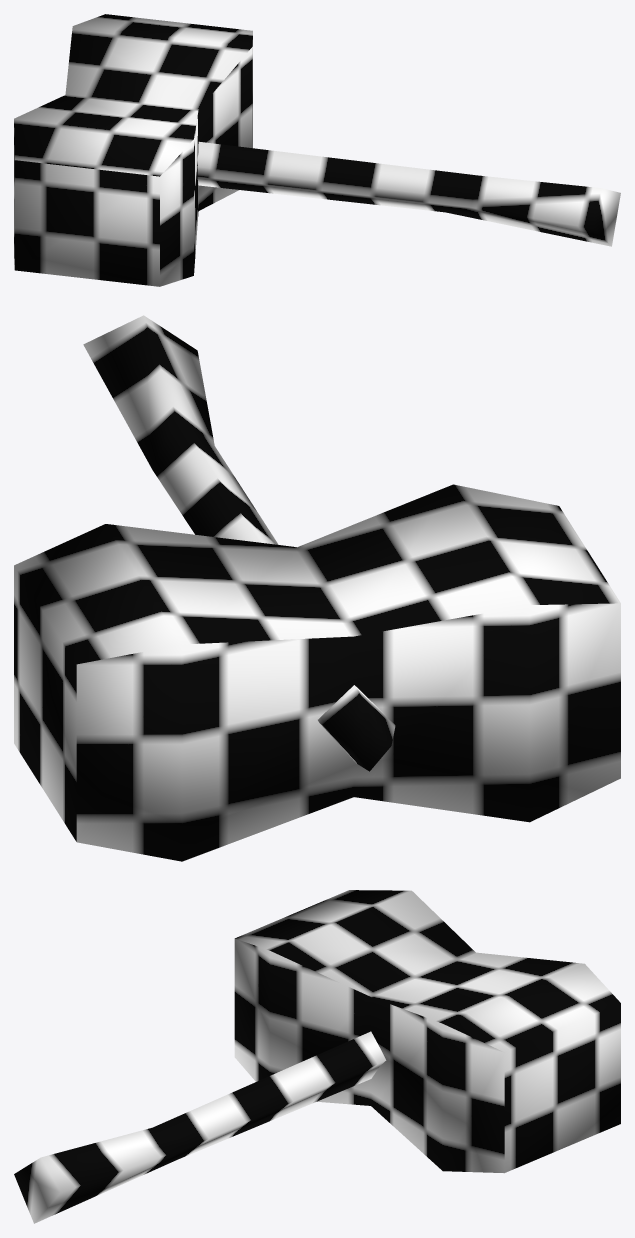
The model's file is initwehm3.dae.
3 renders of one model, top to bottom at view 1: azimuth 30°, elevation 25°; view 2: azimuth 150°, elevation 25°; view 3: azimuth 270°, elevation 25°, orthographic. The views are drawn at different scales.
Parts seen in each view (by area): view 1: weapon; view 2: weapon; view 3: weapon.
Part boxes in pixels (left/top/right/bottom): weapon: left=14, top=14, right=620, bottom=286; weapon: left=14, top=315, right=620, bottom=861; weapon: left=14, top=890, right=620, bottom=1223.
Bounding box in the file's own units: 2.2 × 2.27 × 0.6088.
1 material, 1 textured.
